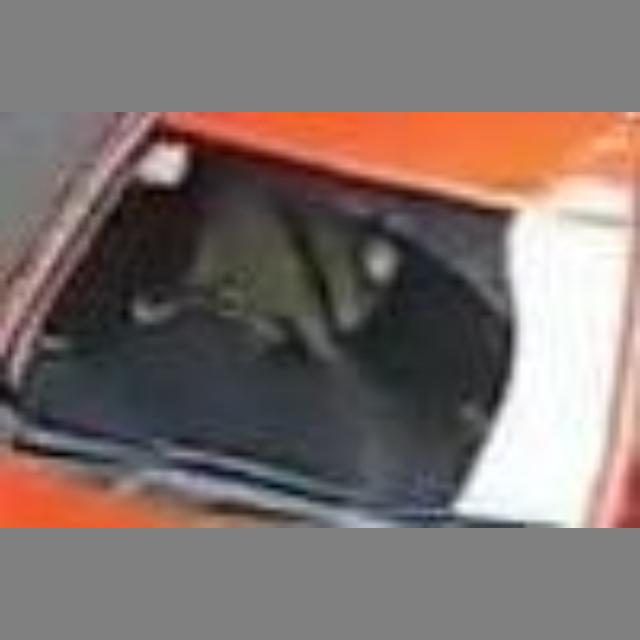pakai: (186, 189, 397, 368)
